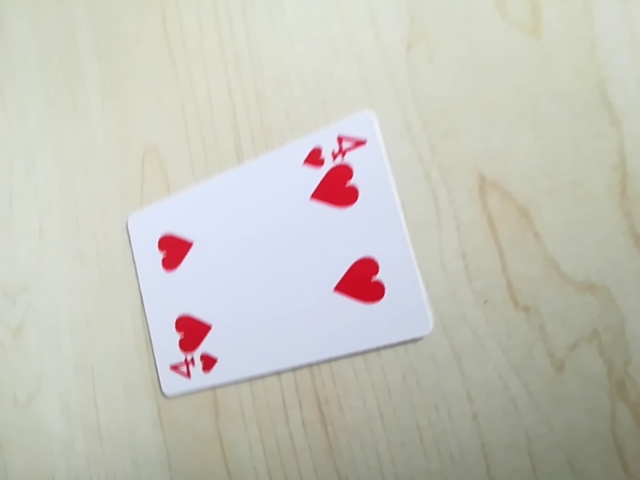hx 4: (299, 125, 369, 166), (162, 350, 223, 388)
